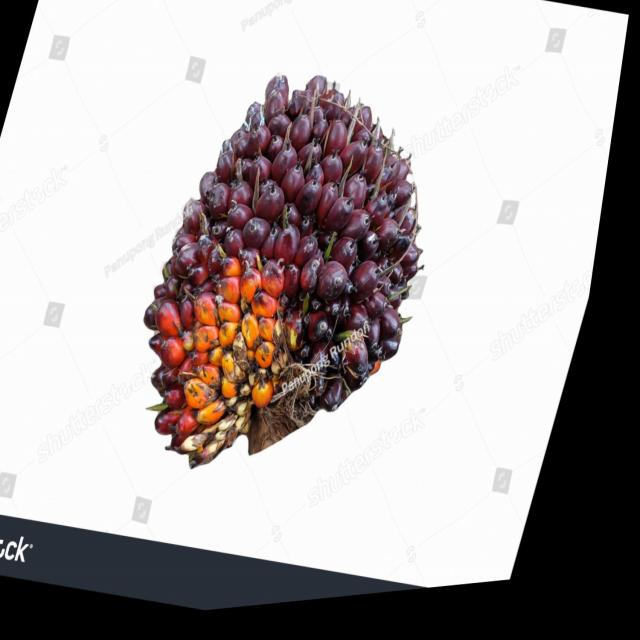Ripefruit: (113, 39, 489, 528)
